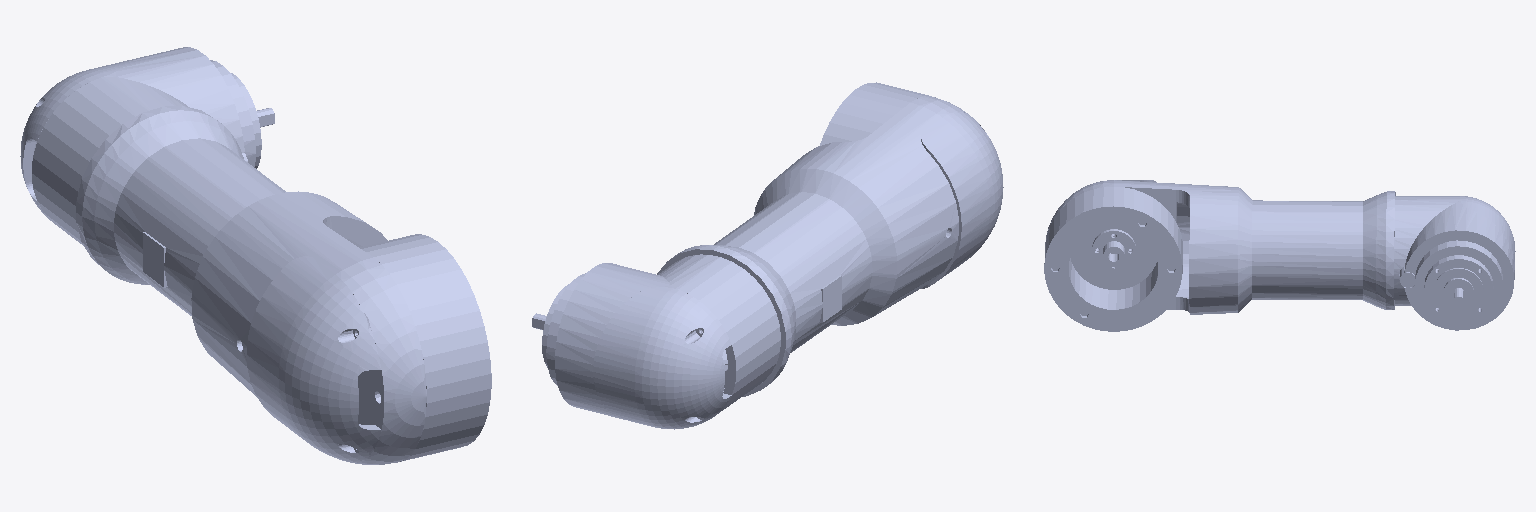
URDF robot description (robot_6dof):
<?xml version="1.0"?>
<robot name="robot_6dof">

  <link name="base_link">
    <inertial>
      <origin
        xyz="6.9648E-05 2.7131E-08 0.01139"
        rpy="0 0 0" />
      <mass
        value="0.54189" />
      <inertia
        ixx="0.001226"
        ixy="-1.0803E-09"
        ixz="-1.502E-07"
        iyy="0.0012286"
        iyz="-2.6389E-10"
        izz="0.0023945" />
    </inertial>
    <visual>
      <origin
        xyz="0 0 0"
        rpy="0 0 0" />
      <geometry>
        <mesh
          filename="package://robot_6dof/meshes/base_link.STL" />
      </geometry>
      <material
        name="">
        <color
          rgba="1 1 1 1" />
      </material>
    </visual>
    <collision>
      <origin
        xyz="0 0 0"
        rpy="0 0 0" />
      <geometry>
        <mesh
          filename="package://robot_6dof/meshes/base_link.STL" />
      </geometry>
    </collision>
  </link>

  <link name="Link_1">
    <inertial>
      <origin
        xyz="0.032111 -2.3035E-06 -0.041765"
        rpy="0 0 0" />
      <mass
        value="1.2501" />
      <inertia
        ixx="0.0027292"
        ixy="-6.7358E-08"
        ixz="-0.00080275"
        iyy="0.0033332"
        iyz="-5.048E-08"
        izz="0.0031674" />
    </inertial>
    <visual>
      <origin
        xyz="0 0 0"
        rpy="0 0 0" />
      <geometry>
        <mesh
          filename="package://robot_6dof/meshes/Link_1.STL" />
      </geometry>
      <material
        name="">
        <color
          rgba="0.79216 0.81961 0.93333 1" />
      </material>
    </visual>
    <collision>
      <origin
        xyz="0 0 0"
        rpy="0 0 0" />
      <geometry>
        <mesh
          filename="package://robot_6dof/meshes/Link_1.STL" />
      </geometry>
    </collision>
  </link>

  <link name="Link_2">
    <inertial>
      <origin
        xyz="0.0967690452622868 7.9888520782001E-07 -0.000403484304863755"
        rpy="0 0 0" />
      <mass
        value="1.2592115580279" />
      <inertia
        ixx="0.00187031756337727"
        ixy="-2.8648257564185E-08"
        ixz="0.000435281947158766"
        iyy="0.00475904821841891"
        iyz="4.32501012483649E-08"
        izz="0.0050185794528046" />
    </inertial>
    <visual>
      <origin
        xyz="0 0 0"
        rpy="0 0 0" />
      <geometry>
        <mesh
          filename="package://robot_6dof/meshes/Link_2.STL" />
      </geometry>
      <material
        name="">
        <color
          rgba="0.792156862745098 0.819607843137255 0.933333333333333 1" />
      </material>
    </visual>
    <collision>
      <origin
        xyz="0 0 0"
        rpy="0 0 0" />
      <geometry>
        <mesh
          filename="package://robot_6dof/meshes/Link_2.STL" />
      </geometry>
    </collision>
  </link>

  <link name="Link_3">
    <inertial>
      <origin
        xyz="0.105409999422065 -1.38975531221996E-06 0.00440023413107865"
        rpy="0 0 0" />
      <mass
        value="0.956951585411102" />
      <inertia
        ixx="0.000971593548429778"
        ixy="-4.63179581797583E-05"
        ixz="-0.000221367435212386"
        iyy="0.00315823962788167"
        iyz="-2.59106477302699E-08"
        izz="0.00325986339284773" />
    </inertial>
    <visual>
      <origin
        xyz="0 0 0"
        rpy="0 0 0" />
      <geometry>
        <mesh
          filename="package://robot_6dof/meshes/Link_3.STL" />
      </geometry>
      <material
        name="">
        <color
          rgba="0.792156862745098 0.819607843137255 0.933333333333333 1" />
      </material>
    </visual>
    <collision>
      <origin
        xyz="0 0 0"
        rpy="0 0 0" />
      <geometry>
        <mesh
          filename="package://robot_6dof/meshes/Link_3.STL" />
      </geometry>
    </collision>
  </link>

  <link name="Link_4">
    <inertial>
      <origin
        xyz="-1.517E-07 -0.021518 0.050883"
        rpy="0 0 0" />
      <mass
        value="0.26222" />
      <inertia
        ixx="0.00027461"
        ixy="-6.3569E-10"
        ixz="8.2376E-11"
        iyy="0.00016148"
        iyz="3.4428E-05"
        izz="0.00027185" />
    </inertial>
    <visual>
      <origin
        xyz="0 0 0"
        rpy="0 0 0" />
      <geometry>
        <mesh
          filename="package://robot_6dof/meshes/Link_4.STL" />
      </geometry>
      <material
        name="">
        <color
          rgba="0.79216 0.81961 0.93333 1" />
      </material>
    </visual>
    <collision>
      <origin
        xyz="0 0 0"
        rpy="0 0 0" />
      <geometry>
        <mesh
          filename="package://robot_6dof/meshes/Link_4.STL" />
      </geometry>
    </collision>
  </link>

  <link name="Link_5">
    <inertial>
      <origin
        xyz="2.56050163460753E-07 0.0145939451537695 0.0512076511059981"
        rpy="0 0 0" />
      <mass
        value="0.281075718958217" />
      <inertia
        ixx="0.000240924546681779"
        ixy="-6.57951164796267E-10"
        ixz="-1.71790582313515E-11"
        iyy="0.000162706484905412"
        iyz="-2.81907473481584E-05"
        izz="0.000239187317752223" />
    </inertial>
    <visual>
      <origin
        xyz="0 0 0"
        rpy="0 0 0" />
      <geometry>
        <mesh
          filename="package://robot_6dof/meshes/Link_5.STL" />
      </geometry>
      <material
        name="">
        <color
          rgba="0.792156862745098 0.819607843137255 0.933333333333333 1" />
      </material>
    </visual>
    <collision>
      <origin
        xyz="0 0 0"
        rpy="0 0 0" />
      <geometry>
        <mesh
          filename="package://robot_6dof/meshes/Link_5.STL" />
      </geometry>
    </collision>
  </link>

  <link name="Link_6">
    <inertial>
      <origin
        xyz="-3.18750079002506E-05 -8.526729322611E-11 0.00682113527098754"
        rpy="0 0 0" />
      <mass
        value="0.102485808599363" />
      <inertia
        ixx="2.38399727457236E-05"
        ixy="-1.39025491840001E-13"
        ixz="-4.22577617421696E-08"
        iyy="2.38819125270802E-05"
        iyz="1.25557534769736E-14"
        izz="3.91604365481194E-05" />
    </inertial>
    <visual>
      <origin
        xyz="0 0 0"
        rpy="0 0 0" />
      <geometry>
        <mesh
          filename="package://robot_6dof/meshes/Link_6.STL" />
      </geometry>
      <material
        name="">
        <color
          rgba="0.792156862745098 0.819607843137255 0.933333333333333 1" />
      </material>
    </visual>
    <collision>
      <origin
        xyz="0 0 0"
        rpy="0 0 0" />
      <geometry>
        <mesh
          filename="package://robot_6dof/meshes/Link_6.STL" />
      </geometry>
    </collision>
  </link>

  <joint name="Joint_1" type="revolute">
    <origin xyz="0 0 0.1555" rpy="0 0 -0.014125" />
    <parent link="base_link" />
    <child link="Link_1" />
    <axis xyz="0 0 1" />
    <limit
      lower="-3.1416"
      upper="3.1416"
      effort="10"
      velocity="10" />
  </joint>

  <joint name="Joint_2" type="revolute">
    <origin xyz="0.1207 0 0" rpy="1.5708 -0.00020266 1.5708" />
    <parent link="Link_1" />
    <child link="Link_2" />
    <axis xyz="0 0 1" />
    <limit
      lower="0"
      upper="4.7124"
      effort="10"
      velocity="10" />
  </joint>

  <joint name="Joint_3" type="revolute">
    <origin xyz="0.245 0 -0.0945" rpy="0 0 0" />
    <parent link="Link_2" />
    <child link="Link_3" />
    <axis xyz="0 0 1" />
    <limit
      lower="0"
      upper="4.7124"
      effort="10"
      velocity="10" />
  </joint>

  <joint name="Joint_4" type="revolute">
    <origin xyz="0.25 0 0.05" rpy="0 0 -0.0064821" />
    <parent link="Link_3" />
    <child link="Link_4" />
    <axis xyz="0 0 -1" />
    <limit
      lower="-3.1416"
      upper="3.1416"
      effort="10"
      velocity="10" />
  </joint>

  <joint name="Joint_5" type="revolute">
    <origin xyz="0 -0.06 0.066" rpy="1.5708 0.004011 0" />
    <parent link="Link_4" />
    <child link="Link_5" />
    <axis xyz="0 0 1" />
    <limit
      lower="-3.1416"
      upper="3.1416"
      effort="10"
      velocity="10" />
  </joint>

  <joint name="Joint_6" type="revolute">
    <origin xyz="0 0.082001 0.065999" rpy="-1.5842 -1.5637 0.013376" />
    <parent link="Link_5" />
    <child link="Link_6" />
    <axis xyz="-8.078E-05 0 -1" />
    <limit
      lower="-3.1416"
      upper="3.1416"
      effort="10"
      velocity="10" />
  </joint>

</robot>

--- Facts derived from the render (not from the file) ---
3 views of the same robot in one strip: view 1: azimuth 30°, elevation 25°; view 2: azimuth 150°, elevation 25°; view 3: azimuth 270°, elevation 25° (orthographic).
Robot: robot_6dof — 7 links, 6 joints (6 revolute); root link base_link; default pose: all joints at 0.
Visible links, largest first — view 1: Link_3; view 2: Link_3; view 3: Link_3.
Link boxes in pixels (left/top/right/bottom): Link_3: left=20, top=47, right=491, bottom=464; Link_3: left=532, top=82, right=1003, bottom=429; Link_3: left=1044, top=180, right=1515, bottom=331.
Bounding box of the posed robot: 0.1396 × 0.3403 × 0.1 m (x, y, z).
1 mesh visuals loaded from 7 distinct referenced files (1 binary STL); not drawn: 6 (file found but could not be loaded).